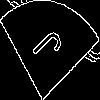J: (25, 25, 65, 74)
